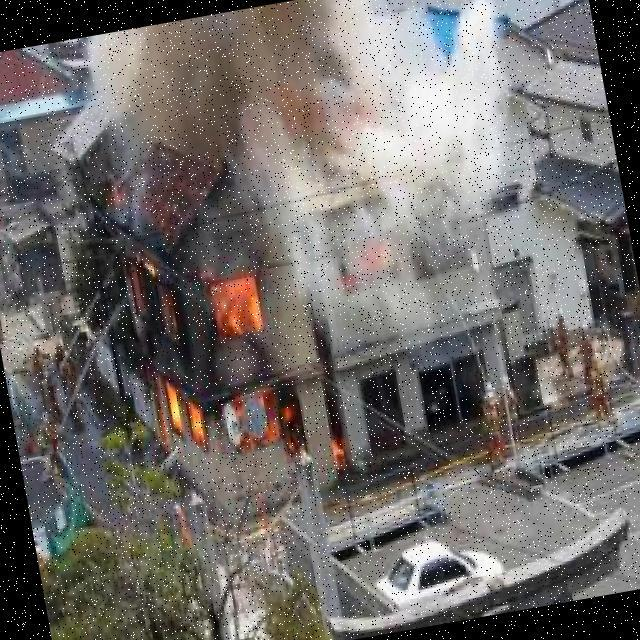Fire: (90, 204, 359, 521)
